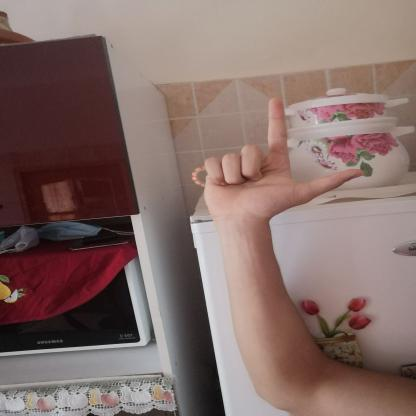LAAM: (188, 92, 373, 232)
